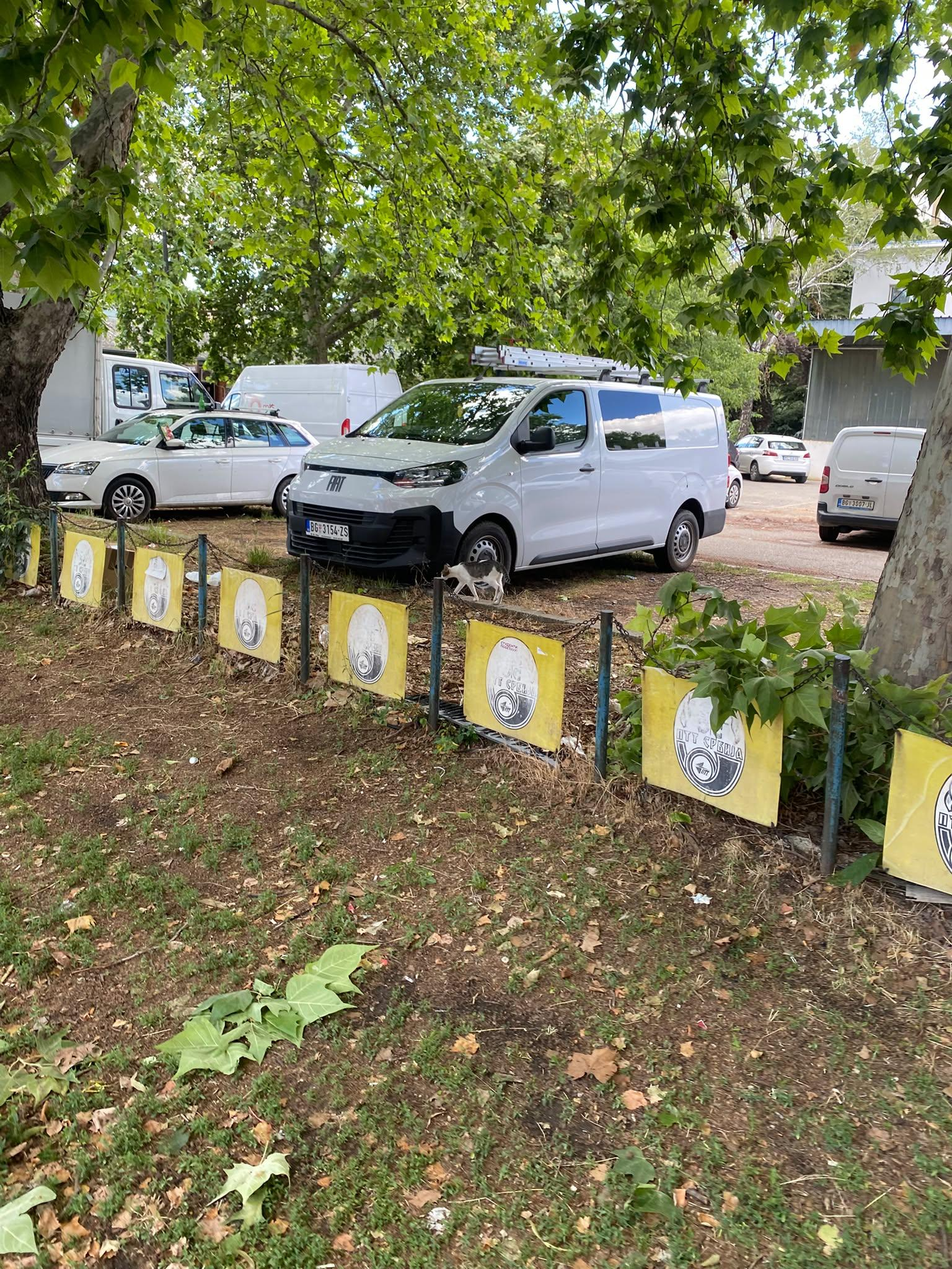macka: (441, 560, 514, 605)
